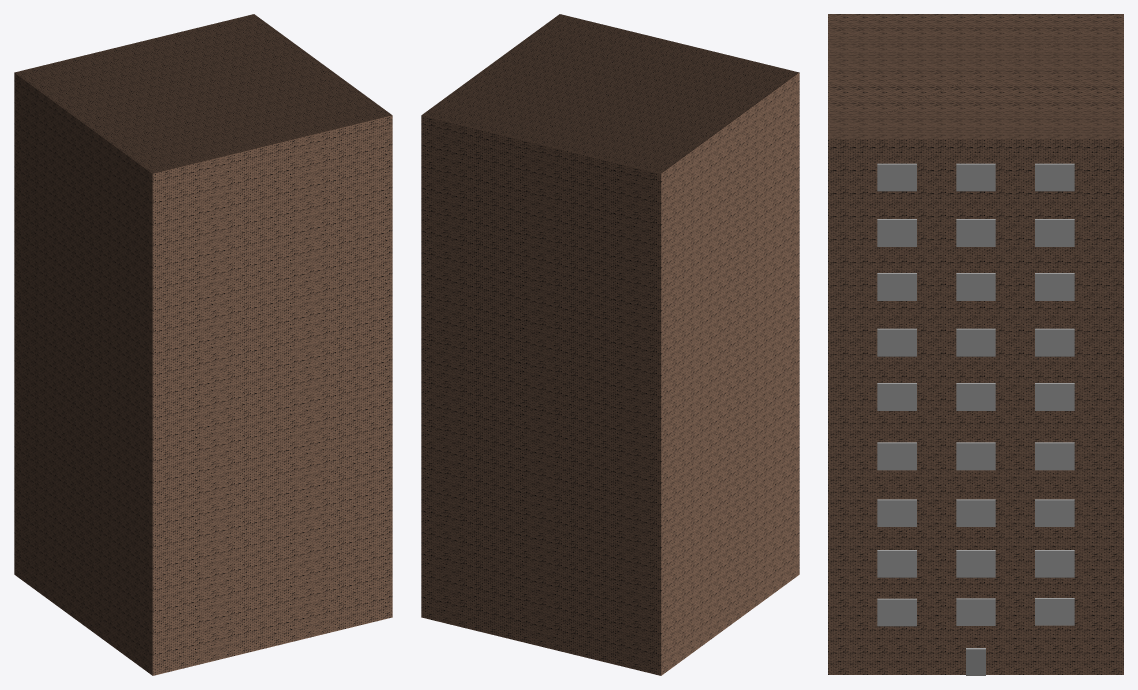
The model's file is building_1.fbx.
3 renders of one model, left to right at view 1: azimuth 30°, elevation 25°; view 2: azimuth 150°, elevation 25°; view 3: azimuth 270°, elevation 25°, orthographic. The views are drawn at different scales.
Visible parts, largest first — view 1: building; view 2: building; view 3: building, windows, door.
Boxes of the visible parts, x1,y1,x2,y2 form: building: (14,14,392,675); building: (421,14,799,675); building: (828,14,1123,674); windows: (877,163,1074,626); door: (966,648,985,675).
Size of the model in its own units: 3025 by 6000 by 3000.
